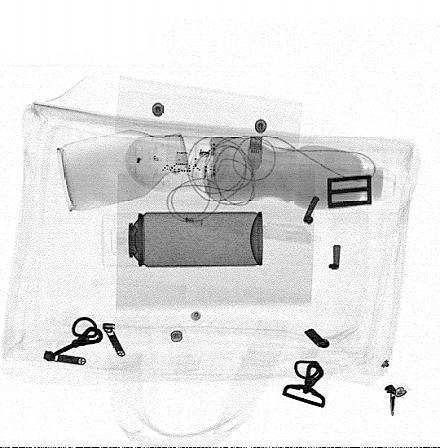Sprayer: (103, 211, 264, 267)
